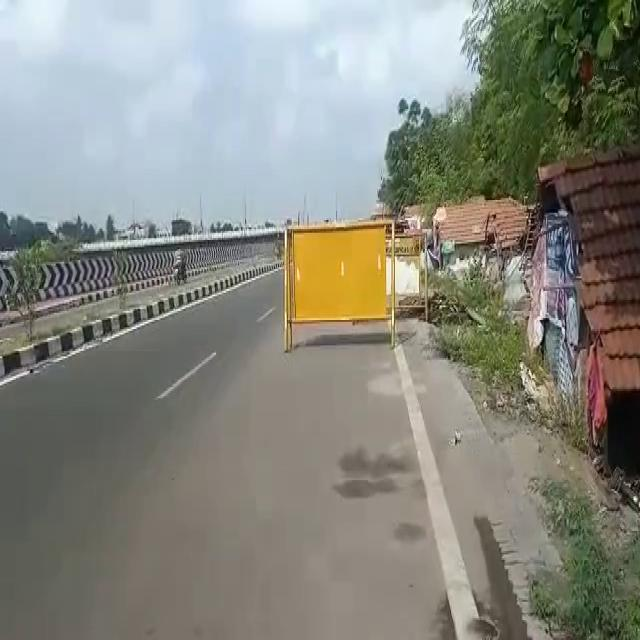fallen_object: (266, 206, 426, 368)
